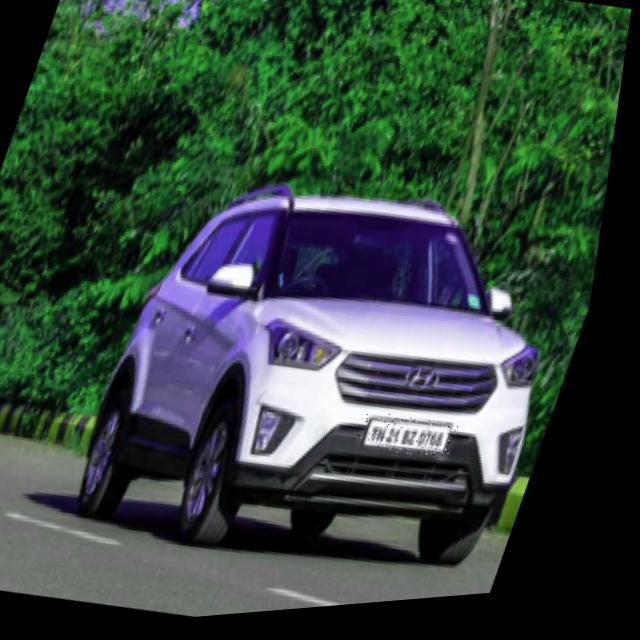license_plate: (365, 411, 476, 474)
